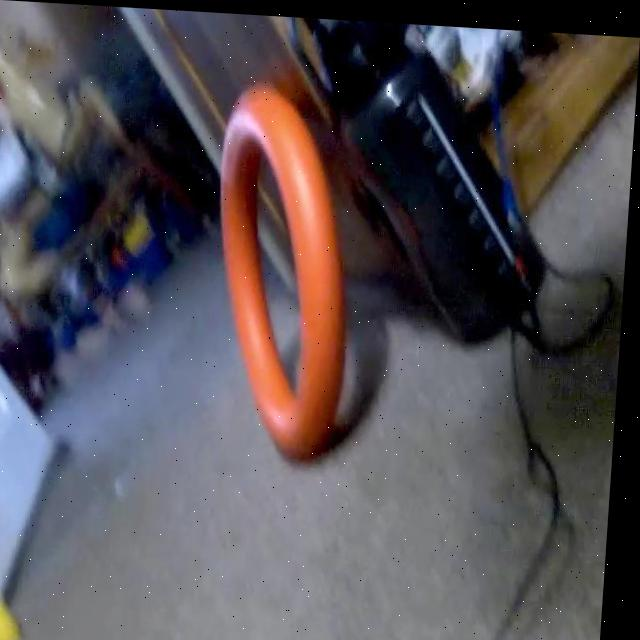note: (205, 78, 365, 466)
